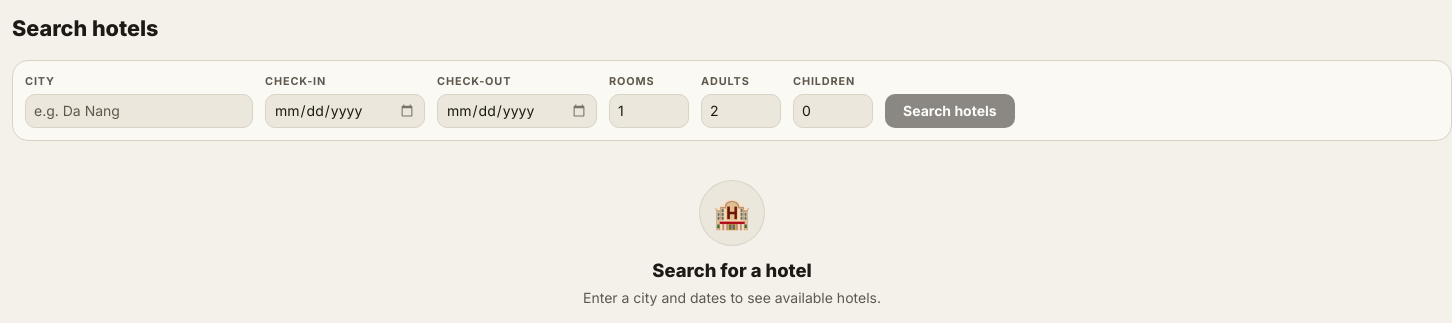
HotelsPage › shows an empty state when there are no results
The width and height of the screenshot is (1452, 323).
Type "Da Nang" into the field labelled "City" at (139, 111), box [25,94,253,128]
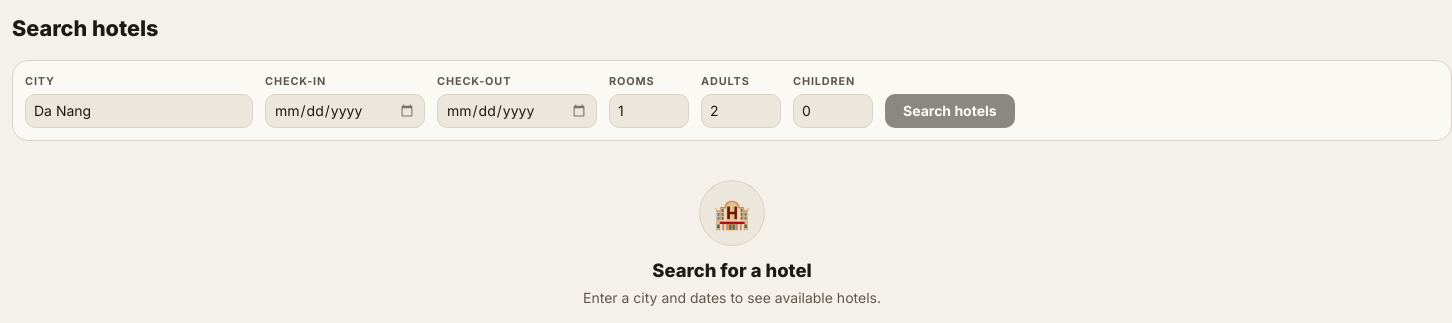
Type "2026-06-01" into the date field labelled "Check-in" at (345, 111), box [265,94,425,128]
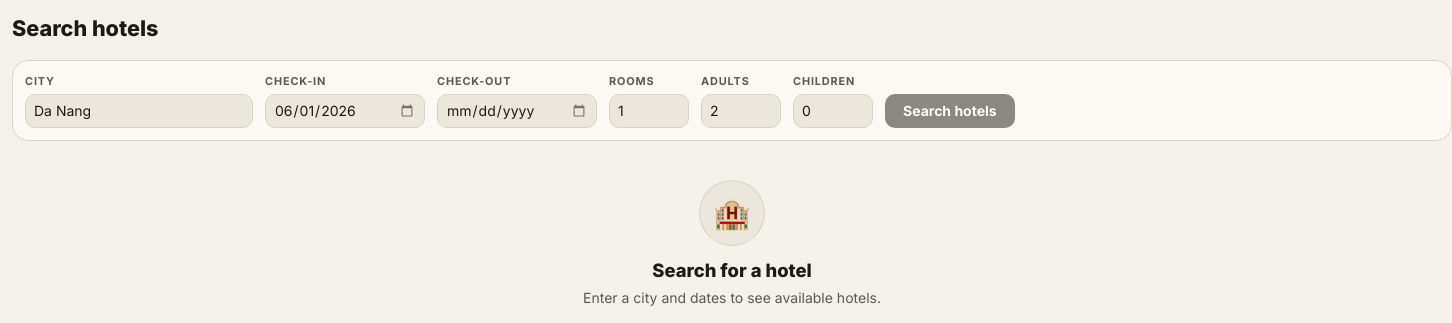
Type "2026-06-03" into the date field labelled "Check-out" at (517, 111), box [437,94,597,128]
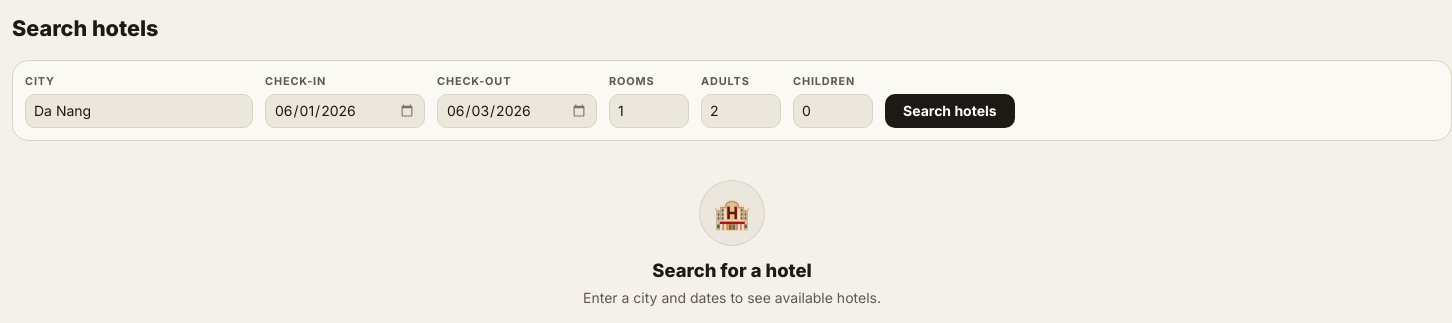
Click the button "Search hotels" at (950, 111), box [885,94,1015,128]
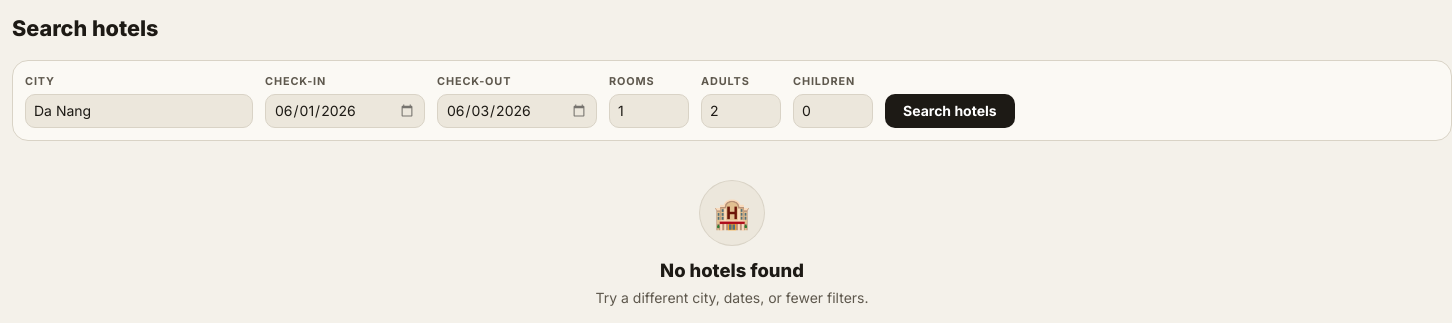
expect the text "No hotels found" is shown: met, box [660,259,804,281]
